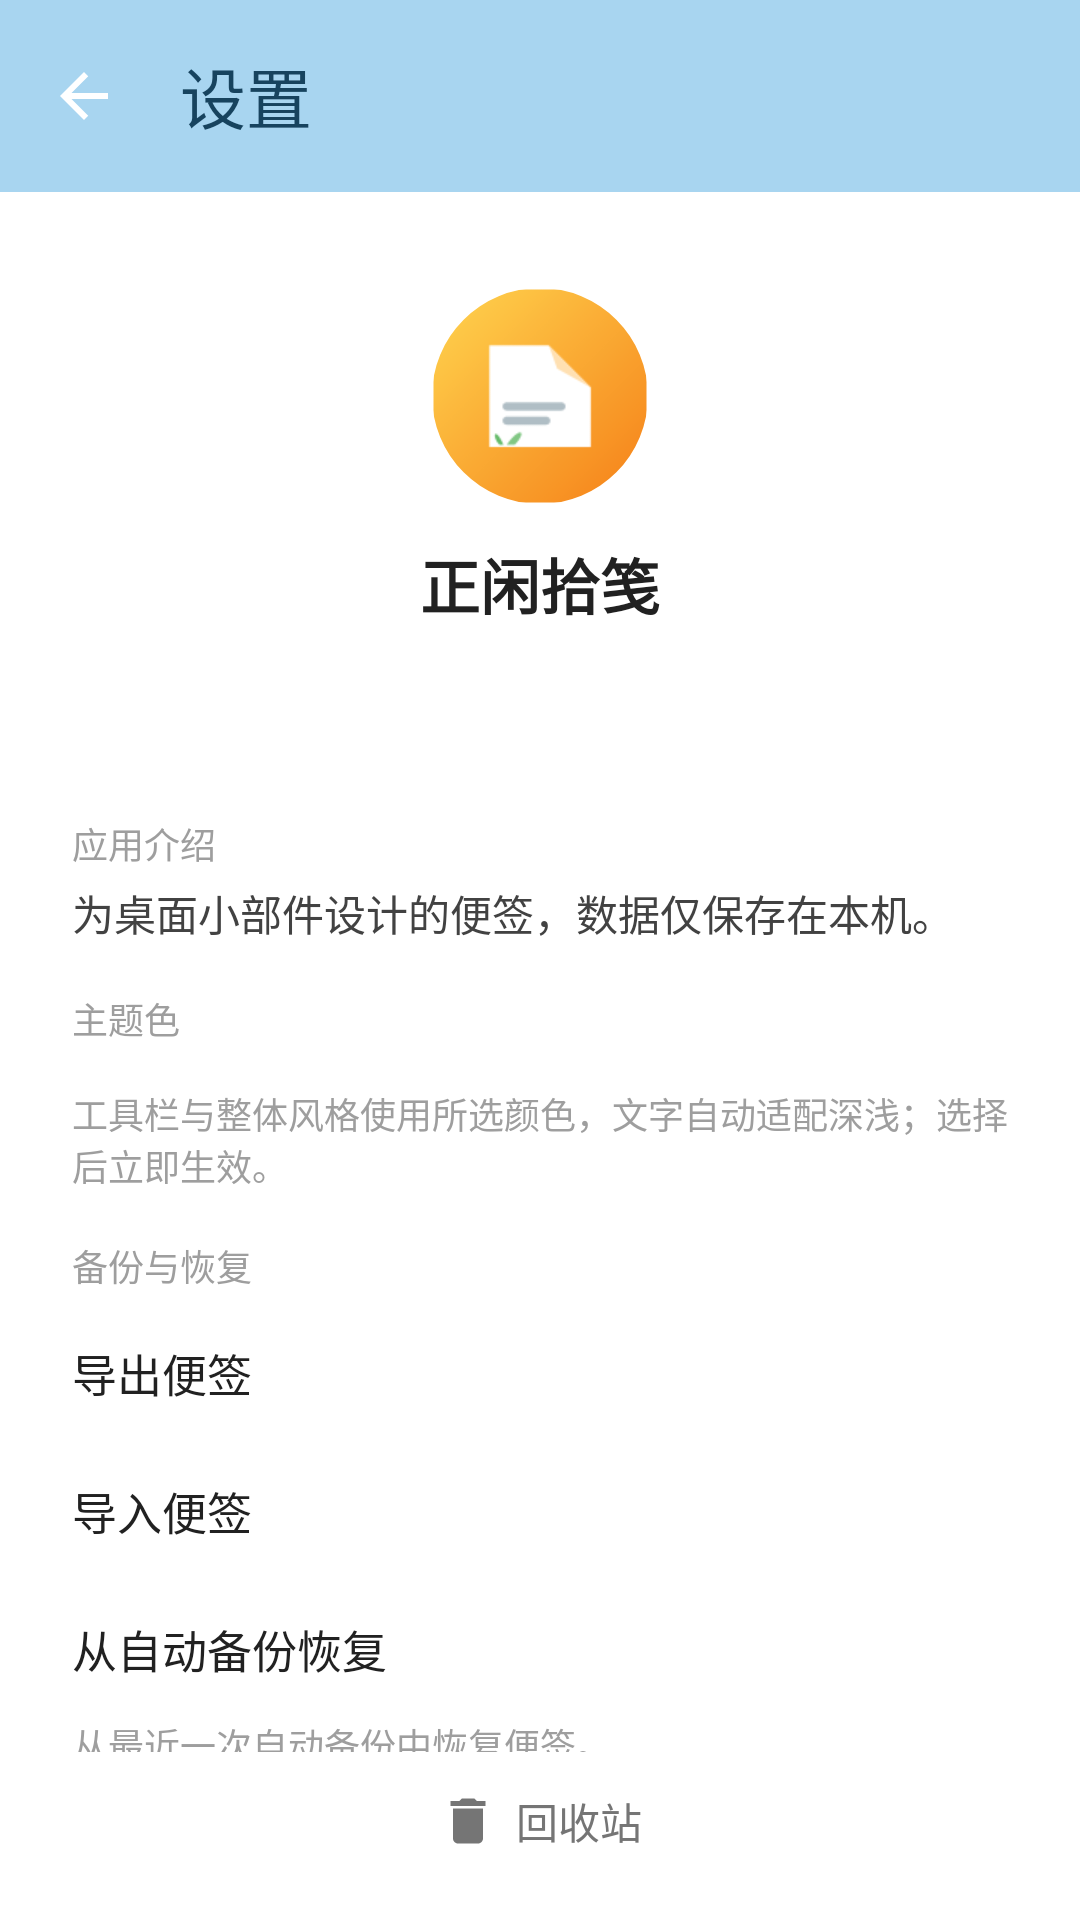

Screen size 1080w x 1920h. Icon name, then its box in pixels as (left=x1, top=y1, right=x2, bottom=y2):
delete: (left=450, top=1798, right=486, bottom=1844)
